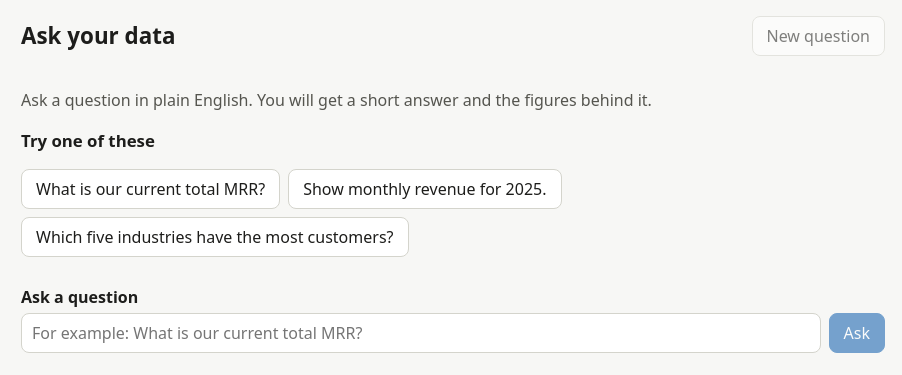
asking › shows a friendly message when the service cannot be reached
The image size is (902, 375).
Type "Anything" into the field labelled "Ask a question" at coordinates (421, 333), box [21,313,821,353]
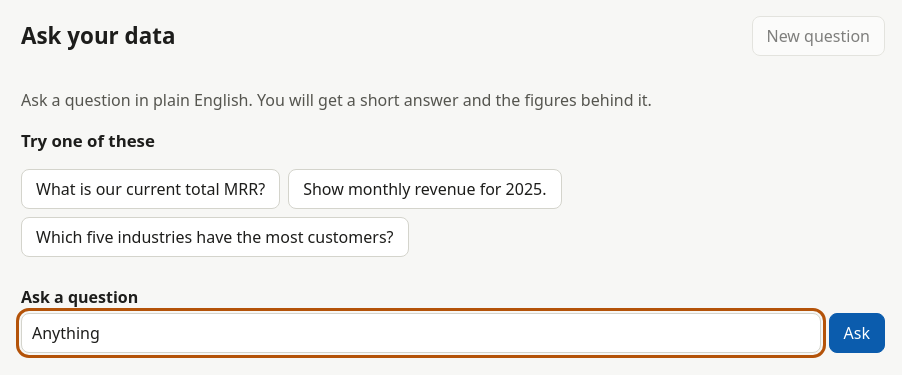
Click the button "Ask" at coordinates (857, 333), box [829,313,885,353]
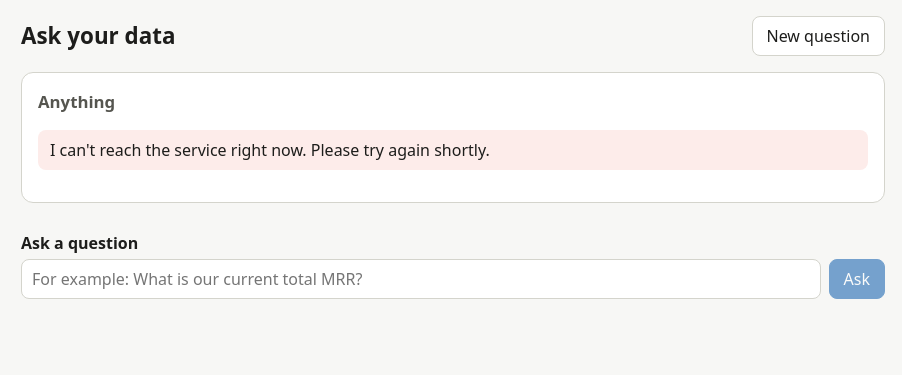
Check: the text "can't reach the service" is shown, box [50,139,490,161]
